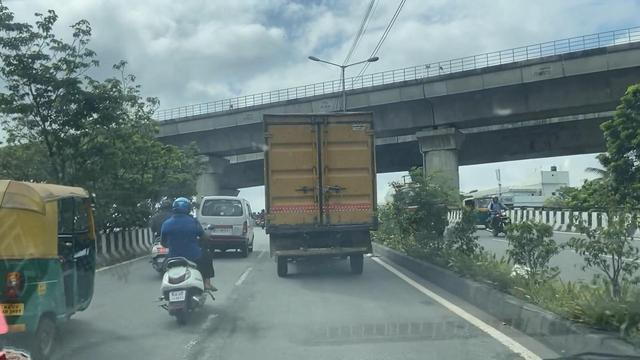HMV: (263, 111, 383, 277)
LMV: (163, 197, 204, 316), (204, 196, 246, 245)
